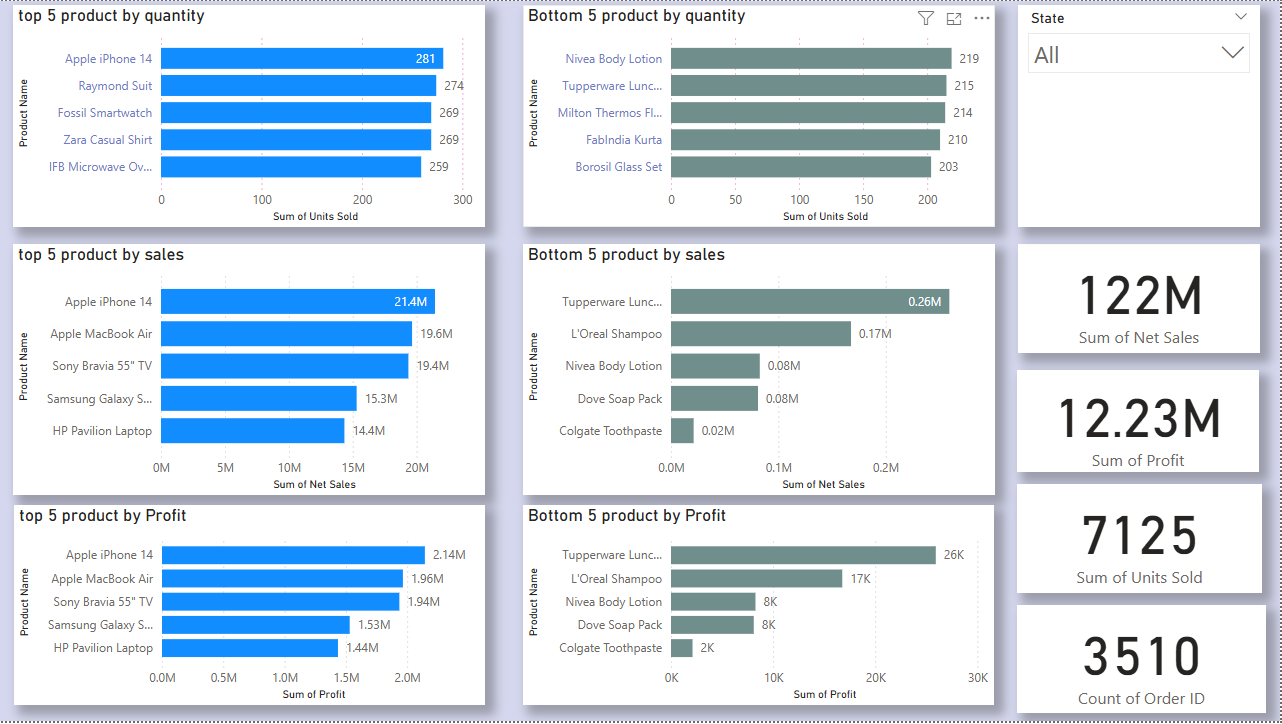

Layout of this report page (visuals, bound fields, positions):
{"tool":"powerbi","page":{"name":"charts","canvas":[1280,720],"ordinal":1},"visuals":[{"type":"card","fields":{"Values":["Sum(dim data.Net Sales)"]},"box":[1018,243,242,109],"z":1000},{"type":"barChart","title":"top 5 product by quantity","fields":{"Category":["Dim Product.Product Name"],"Y":["Sum(dim data.Units Sold)"]},"box":[13,4,472,222],"z":3000},{"type":"barChart","title":"top 5 product by sales","fields":{"Y":["Sum(dim data.Net Sales)"],"Category":["Dim Product.Product Name"]},"box":[13,243,472,251],"z":4000},{"type":"barChart","title":"top 5 product by Profit","fields":{"Y":["Sum(dim data.Profit)"],"Category":["Dim Product.Product Name"]},"box":[14,504,471,200],"z":5000},{"type":"barChart","title":"Bottom 5 product by quantity","fields":{"Category":["Dim Product.Product Name"],"Y":["Sum(dim data.Units Sold)"]},"box":[523,4,472,222],"z":6000},{"type":"barChart","title":"Bottom 5 product by sales","fields":{"Y":["Sum(dim data.Net Sales)"],"Category":["Dim Product.Product Name"]},"box":[523,243,472,251],"z":7000},{"type":"barChart","title":"Bottom 5 product by Profit","fields":{"Y":["Sum(dim data.Profit)"],"Category":["Dim Product.Product Name"]},"box":[523,504,471,200],"z":8000},{"type":"card","fields":{"Values":["Sum(dim data.Profit)"]},"box":[1016.7,368.9,242.2,102.2],"z":9000},{"type":"card","fields":{"Values":["Sum(dim data.Units Sold)"]},"box":[1016.7,483.3,245.6,108.9],"z":10000},{"type":"card","fields":{"Values":["Count(dim data.Order ID)"]},"box":[1016.7,604.4,248.9,107.8],"z":11000},{"type":"slicer","fields":{"Values":["Dim Customers.State"]},"box":[1018,4,242,222],"z":11001}]}

Visuals, with their boxes in screenshot pixels (x1, y1, x2, y2), scaled from the page's 1280x720 canvas onto the 1282x724 screenshot:
card - Sum(dim data.Net Sales): Rect(1020, 244, 1262, 354)
"top 5 product by quantity" barChart: Rect(13, 4, 486, 227)
"top 5 product by sales" barChart: Rect(13, 244, 486, 497)
"top 5 product by Profit" barChart: Rect(14, 507, 486, 708)
"Bottom 5 product by quantity" barChart: Rect(524, 4, 997, 227)
"Bottom 5 product by sales" barChart: Rect(524, 244, 997, 497)
"Bottom 5 product by Profit" barChart: Rect(524, 507, 996, 708)
card - Sum(dim data.Profit): Rect(1018, 371, 1261, 474)
card - Sum(dim data.Units Sold): Rect(1018, 486, 1264, 595)
card - Count(dim data.Order ID): Rect(1018, 608, 1268, 716)
slicer - Dim Customers.State: Rect(1020, 4, 1262, 227)
